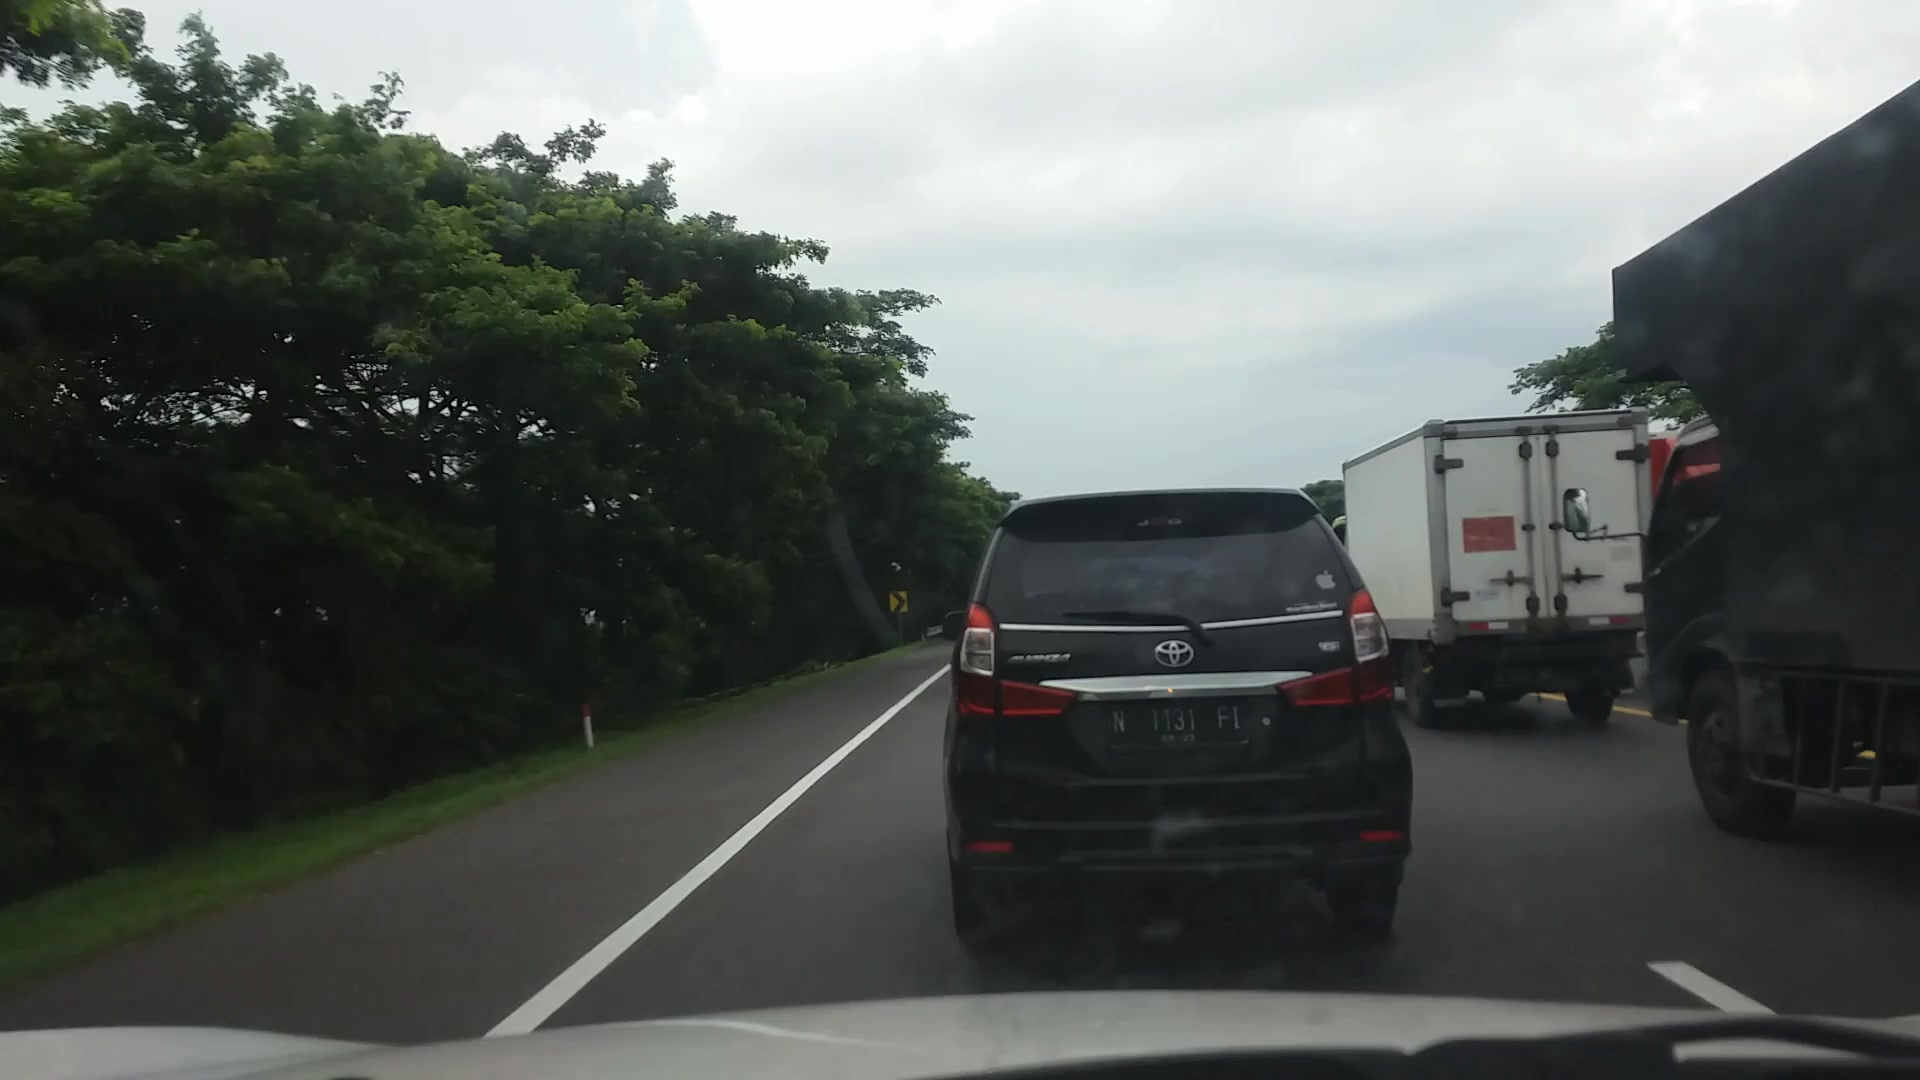plate_positive: (1104, 698, 1247, 746)
